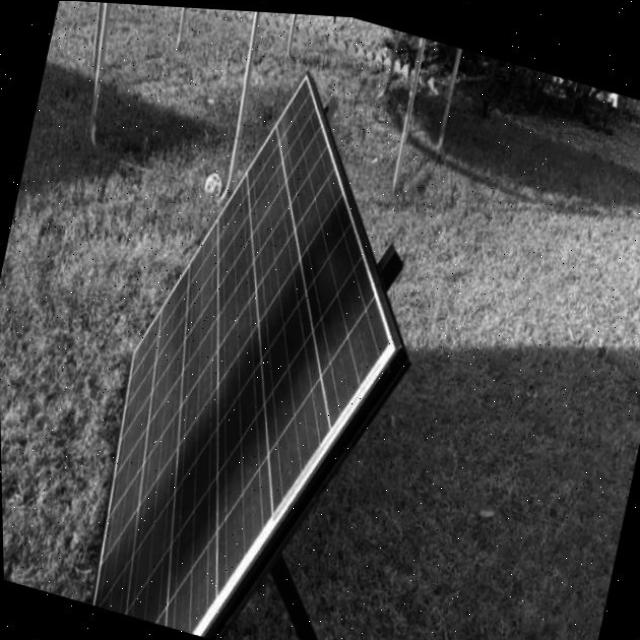Normal Solar Panel: (60, 34, 454, 640)
